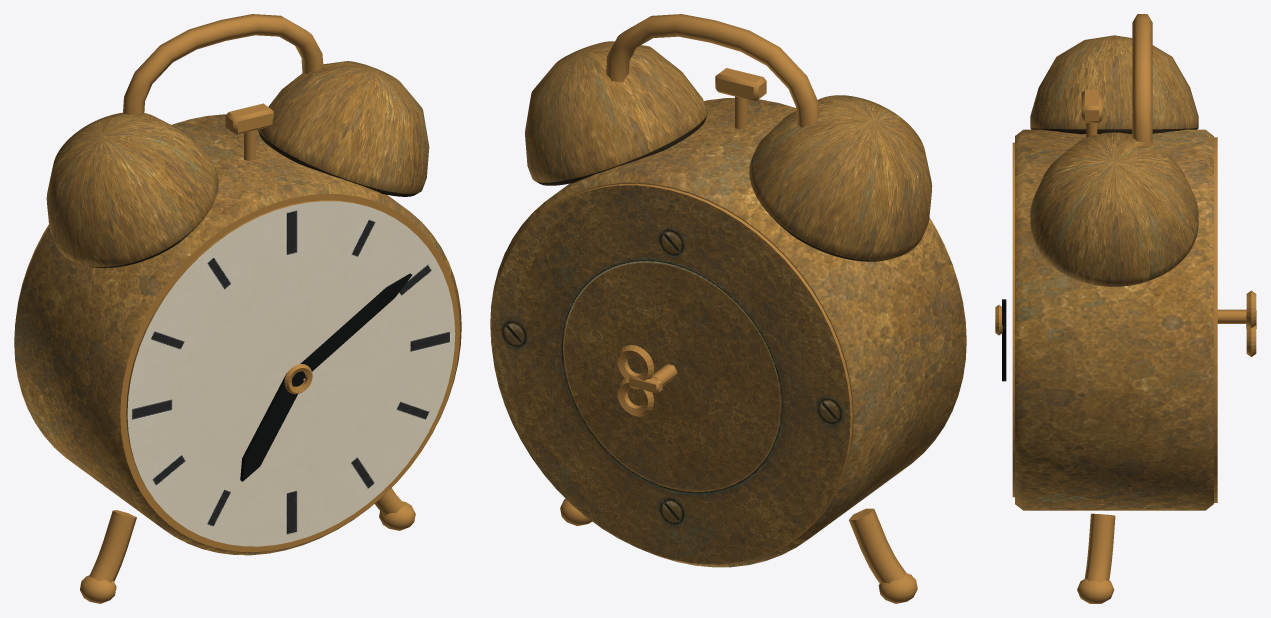
The model's file is alarm_clock.obj.
The picture shows the model from 3 angles, left to right: view 1: azimuth 30°, elevation 25°; view 2: azimuth 150°, elevation 25°; view 3: azimuth 270°, elevation 25°; orthographic projection. The views are drawn at different scales.
Parts seen in each view (by area): view 1: B_FlatEnamelDial.001_alarm_clock_ivory_dial, A_MeasuredBrassCase.001_alarm_clock_brass_strip, D_HollowBell_-1.001_alarm_clock_brass_strip, D_HollowBell_1.001_alarm_clock_brass_strip, A_MeasuredBrassCase.001_alarm_clock_plain_brass, G_RearCarryHandle.001_alarm_clock_plain_brass, J_RaisedHand_hour.001_alarm_clock_hands, J_RaisedHand_minute.001_alarm_clock_hands, E_AngledFoot_-1.001_alarm_clock_plain_brass, I_Hammer.001_alarm_clock_plain_brass, B_FlatEnamelDial.001_alarm_clock_plain_brass, F_FootPad_-1.001_alarm_clock_plain_brass (+1 smaller); view 2: C_RearAccessPlate.001_alarm_clock_rear_plate, A_MeasuredBrassCase.001_alarm_clock_brass_strip, D_HollowBell_-1.001_alarm_clock_brass_strip, D_HollowBell_1.001_alarm_clock_brass_strip, G_RearCarryHandle.001_alarm_clock_plain_brass, E_AngledFoot_-1.001_alarm_clock_plain_brass, C_RearAccessPlate.001_alarm_clock_plain_brass, I_Hammer.001_alarm_clock_plain_brass, A_MeasuredBrassCase.001_alarm_clock_plain_brass, M_WindingKeyHole_0.001_alarm_clock_plain_brass, F_FootPad_-1.001_alarm_clock_plain_brass, M_WindingKeyHole_-0.001_alarm_clock_plain_brass (+1 smaller); view 3: A_MeasuredBrassCase.001_alarm_clock_brass_strip, D_HollowBell_1.001_alarm_clock_brass_strip, D_HollowBell_-1.001_alarm_clock_brass_strip, G_RearCarryHandle.001_alarm_clock_plain_brass, E_AngledFoot_1.001_alarm_clock_plain_brass, C_RearAccessPlate.001_alarm_clock_plain_brass, B_FlatEnamelDial.001_alarm_clock_plain_brass, F_FootPad_1.001_alarm_clock_plain_brass, I_Hammer.001_alarm_clock_plain_brass, D_HollowBell_-1.001_alarm_clock_bell_interior, L_RealWindingShaft.001_alarm_clock_plain_brass, M_WindingKeyHole_0.001_alarm_clock_plain_brass.
Part boxes in pixels (x1,y1,x2,y2): B_FlatEnamelDial.001_alarm_clock_ivory_dial: (127,201,455,546); A_MeasuredBrassCase.001_alarm_clock_brass_strip: (14,114,461,555); D_HollowBell_-1.001_alarm_clock_brass_strip: (46,112,218,267); D_HollowBell_1.001_alarm_clock_brass_strip: (258,61,429,193); A_MeasuredBrassCase.001_alarm_clock_plain_brass: (120,194,459,551); G_RearCarryHandle.001_alarm_clock_plain_brass: (123,14,323,114); J_RaisedHand_hour.001_alarm_clock_hands: (240,373,303,481); J_RaisedHand_minute.001_alarm_clock_hands: (294,273,412,381); E_AngledFoot_-1.001_alarm_clock_plain_brass: (89,510,136,582); I_Hammer.001_alarm_clock_plain_brass: (225,103,273,134); B_FlatEnamelDial.001_alarm_clock_plain_brass: (126,200,391,520); F_FootPad_-1.001_alarm_clock_plain_brass: (80,575,116,603); C_RearAccessPlate.001_alarm_clock_rear_plate: (491,185,850,564); A_MeasuredBrassCase.001_alarm_clock_brass_strip: (490,98,966,567); D_HollowBell_-1.001_alarm_clock_brass_strip: (749,95,932,260); D_HollowBell_1.001_alarm_clock_brass_strip: (525,41,707,182); G_RearCarryHandle.001_alarm_clock_plain_brass: (606,14,819,127); E_AngledFoot_-1.001_alarm_clock_plain_brass: (849,508,906,583); C_RearAccessPlate.001_alarm_clock_plain_brass: (557,183,852,534); I_Hammer.001_alarm_clock_plain_brass: (715,68,766,101); A_MeasuredBrassCase.001_alarm_clock_plain_brass: (506,182,853,561); M_WindingKeyHole_0.001_alarm_clock_plain_brass: (617,345,653,380); F_FootPad_-1.001_alarm_clock_plain_brass: (878,573,917,603); M_WindingKeyHole_-0.001_alarm_clock_plain_brass: (617,378,653,416); A_MeasuredBrassCase.001_alarm_clock_brass_strip: (1015,129,1213,510); D_HollowBell_1.001_alarm_clock_brass_strip: (1030,132,1198,286); D_HollowBell_-1.001_alarm_clock_brass_strip: (1030,35,1198,129); G_RearCarryHandle.001_alarm_clock_plain_brass: (1132,14,1152,144); E_AngledFoot_1.001_alarm_clock_plain_brass: (1084,513,1115,583); C_RearAccessPlate.001_alarm_clock_plain_brass: (1214,137,1217,502); B_FlatEnamelDial.001_alarm_clock_plain_brass: (1012,142,1014,497); F_FootPad_1.001_alarm_clock_plain_brass: (1077,578,1114,603); I_Hammer.001_alarm_clock_plain_brass: (1081,89,1102,122); D_HollowBell_-1.001_alarm_clock_bell_interior: (1030,128,1198,133); L_RealWindingShaft.001_alarm_clock_plain_brass: (1217,309,1246,323); M_WindingKeyHole_0.001_alarm_clock_plain_brass: (1246,290,1256,327).
Bounding box in the file's own units: 2.12 × 2.95 × 1.4.
Materials: 6 (3 with a texture image).
